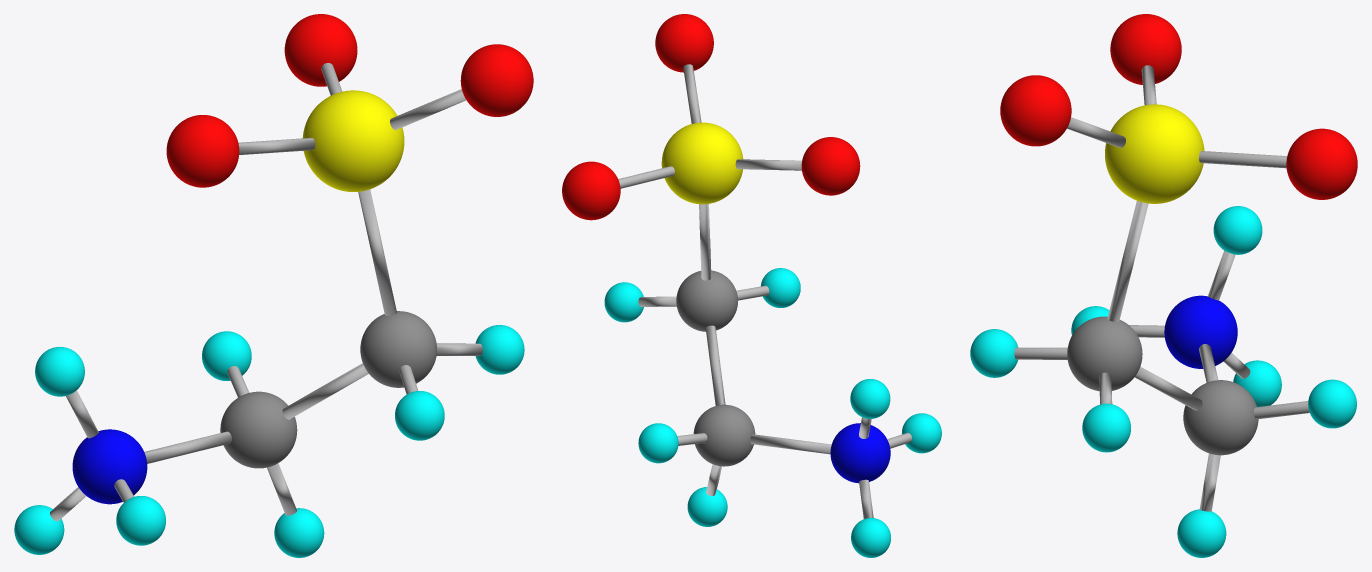
Rendered from taurine.glb.
3 views of the same model, side by side, from view 1: azimuth 30°, elevation 25°; view 2: azimuth 150°, elevation 25°; view 3: azimuth 270°, elevation 25° (orthographic). The views are drawn at different scales.
Visible parts, largest first — view 1: CMBond_13_Segment_0; view 2: CMBond_13_Segment_0; view 3: CMBond_13_Segment_0.
Boxes of the visible parts, box(x1,y1,x2,y2) form: CMBond_13_Segment_0: box(14, 14, 533, 557); CMBond_13_Segment_0: box(562, 14, 941, 557); CMBond_13_Segment_0: box(970, 14, 1357, 557).
Size of the model in its own units: 0.3949 by 0.4798 by 0.3171.
